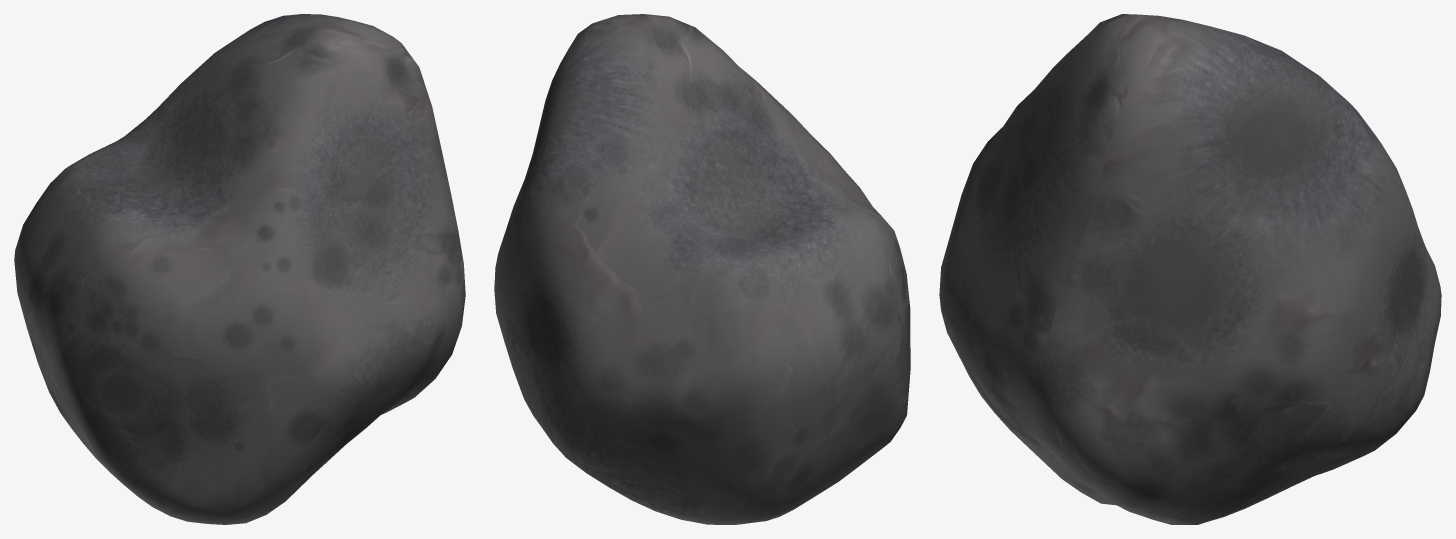
3 renders of one model, left to right at view 1: azimuth 30°, elevation 25°; view 2: azimuth 150°, elevation 25°; view 3: azimuth 270°, elevation 25°, orthographic. The views are drawn at different scales.
Visible parts, largest first — view 1: pPlatonic1; view 2: pPlatonic1; view 3: pPlatonic1.
Part boxes in pixels (box(x1,y1,x2,y2)): pPlatonic1: box(14, 14, 465, 524); pPlatonic1: box(494, 14, 910, 524); pPlatonic1: box(939, 14, 1441, 524).
Size of the model in its own units: 11.79 by 13.87 by 11.9.
Materials: 1 (1 with a texture image).
